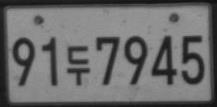1: (38, 36, 63, 85)
4: (150, 34, 178, 86)
5: (180, 34, 206, 85)
7: (95, 35, 119, 86)
9: (122, 34, 148, 85), (11, 36, 35, 87)
두: (66, 44, 90, 86)
